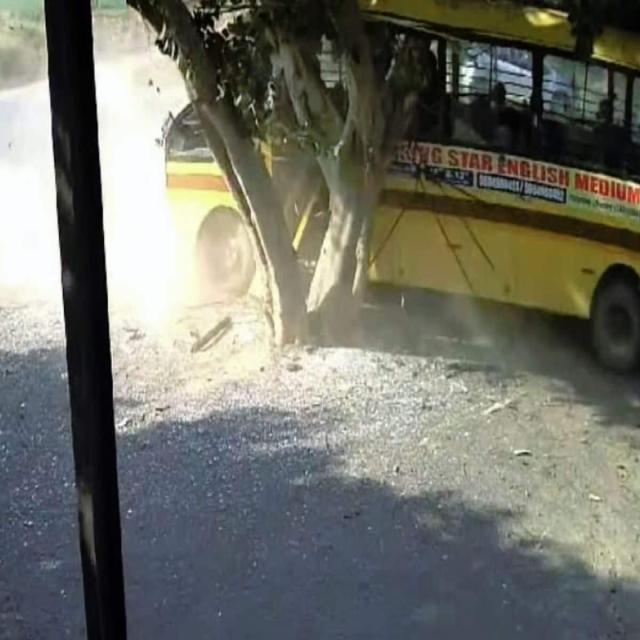accident: (360, 0, 640, 369)
